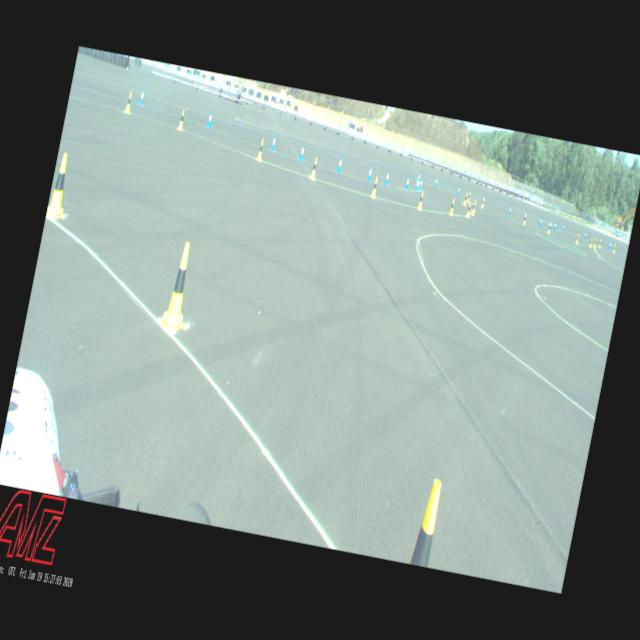blue_cone: (138, 88, 146, 106), (270, 134, 278, 152), (336, 156, 344, 173), (298, 144, 306, 160), (207, 111, 214, 128), (384, 170, 390, 186), (404, 176, 410, 190), (414, 178, 420, 192), (368, 166, 373, 182), (419, 178, 424, 190), (418, 172, 422, 184), (540, 217, 544, 227), (434, 176, 438, 186), (508, 206, 512, 215), (523, 211, 527, 220), (457, 186, 461, 194), (553, 222, 557, 230), (584, 232, 587, 240), (609, 241, 612, 248), (562, 223, 564, 232), (550, 222, 552, 230)
yellow_cone: (157, 241, 200, 334), (410, 478, 444, 568), (46, 152, 75, 221), (256, 138, 266, 161), (370, 176, 380, 198), (124, 92, 134, 114), (310, 157, 320, 179), (178, 110, 186, 130), (417, 191, 425, 210), (449, 198, 456, 215), (466, 202, 472, 218), (471, 200, 477, 215), (480, 198, 486, 208), (463, 193, 468, 205), (548, 222, 552, 234), (467, 192, 471, 203), (523, 214, 527, 225), (576, 233, 580, 243), (593, 238, 597, 247), (598, 239, 602, 248), (588, 238, 592, 247), (612, 244, 616, 253)
